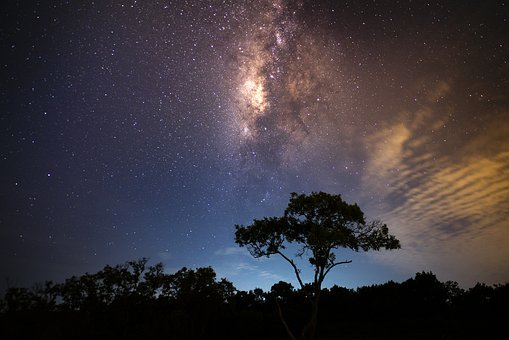forest: (17, 274, 502, 340)
sky: (2, 1, 503, 192)
tree: (234, 188, 399, 306)
